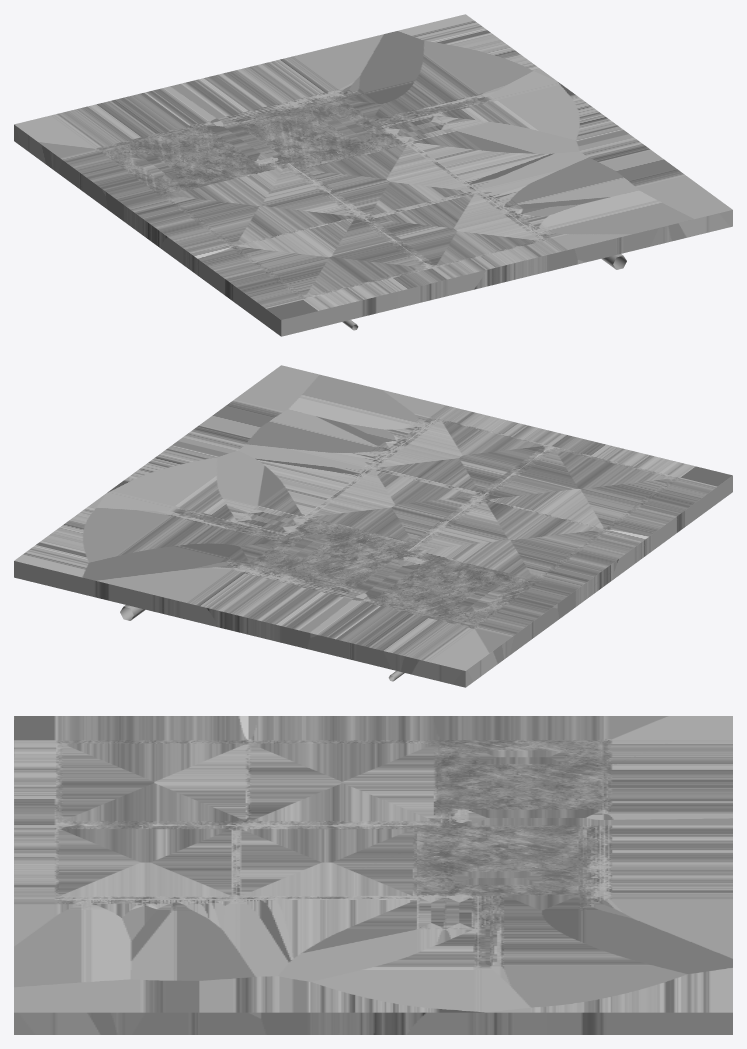
File: ceiling_1.fbx
The picture shows the model from 3 angles, top to bottom: view 1: azimuth 30°, elevation 25°; view 2: azimuth 150°, elevation 25°; view 3: azimuth 270°, elevation 25°; orthographic projection. The views are drawn at different scales.
Visible parts, largest first — view 1: Ceiling_1; view 2: Ceiling_1; view 3: Ceiling_1.
Part boxes in pixels (x1,y1,x2,y2): Ceiling_1: (14, 14, 732, 336); Ceiling_1: (14, 365, 732, 687); Ceiling_1: (14, 716, 732, 1034).
Bounding box in the file's own units: 5.81 × 0.4169 × 5.96.
